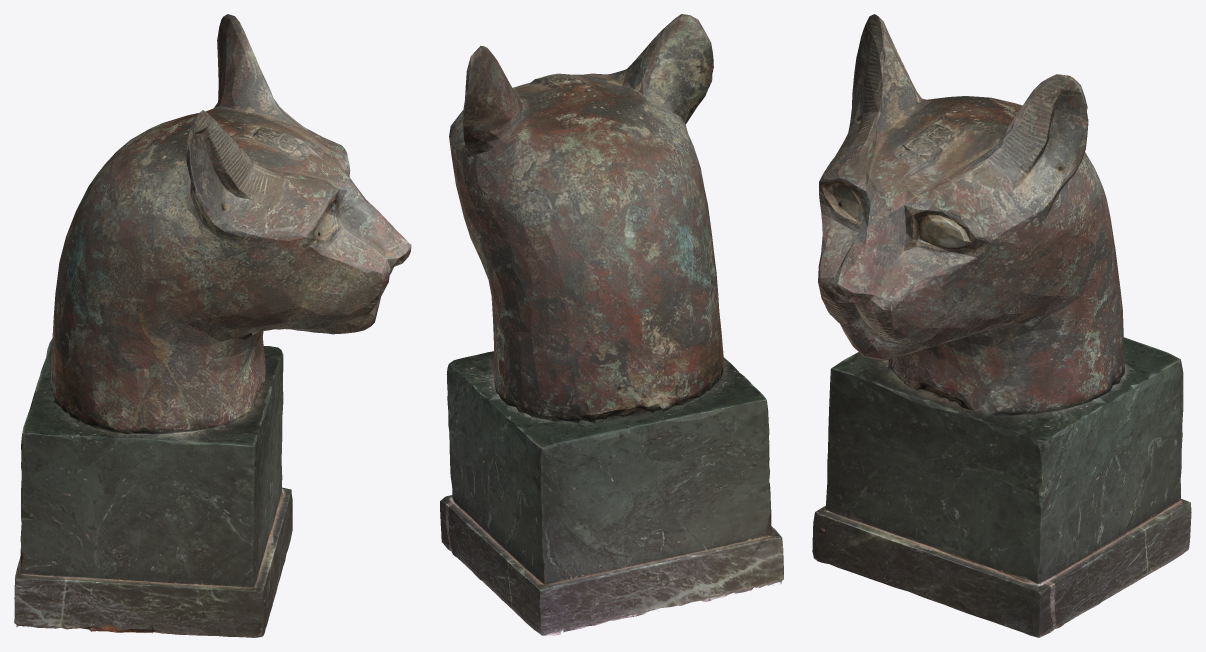
The model's file is bronze_cat.dae.
The picture shows the model from 3 angles, left to right: view 1: azimuth 30°, elevation 25°; view 2: azimuth 150°, elevation 25°; view 3: azimuth 270°, elevation 25°; orthographic projection. The views are drawn at different scales.
Parts seen in each view (by area): view 1: node; view 2: node; view 3: node.
Boxes of the visible parts, x1,y1,x2,y2 form: node: (14, 14, 411, 637); node: (440, 14, 783, 635); node: (812, 14, 1191, 637).
Size of the model in its own units: 1.87 by 2.72 by 1.72.
1 material, 1 textured.
